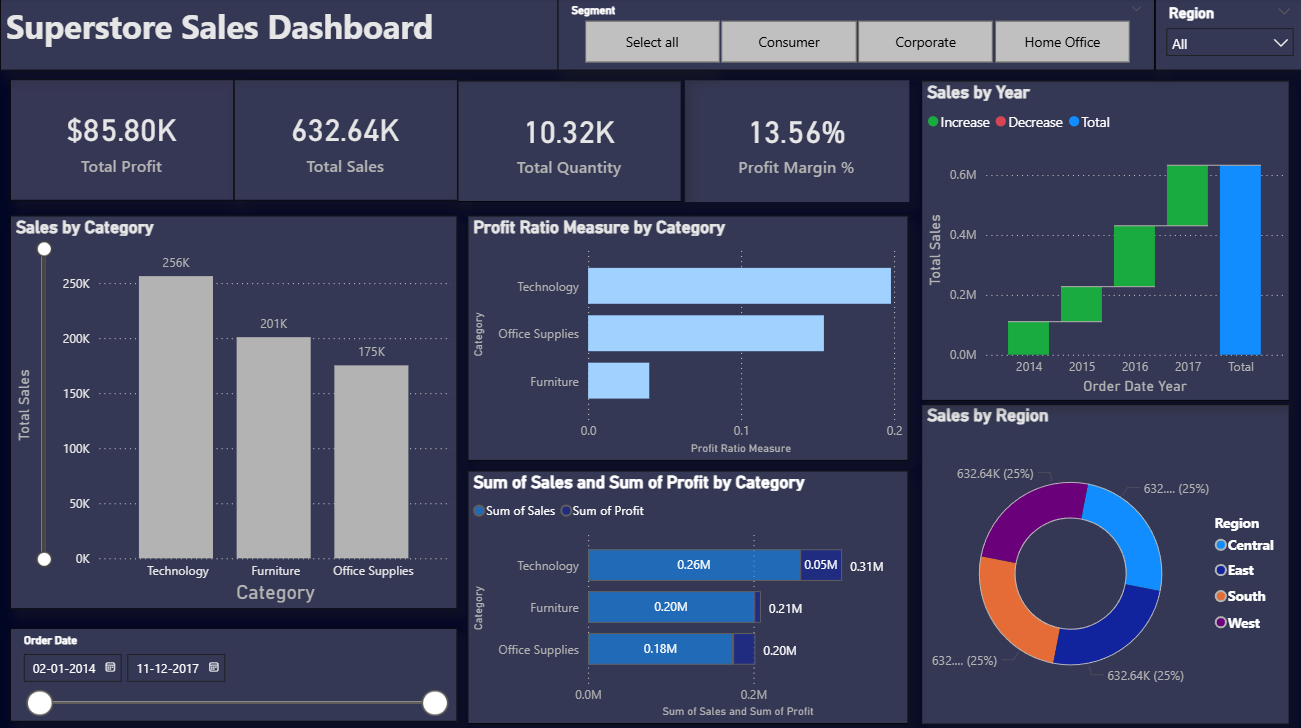

This screenshot's page, from the dashboard's own definition file:
{"tool":"powerbi","page":{"name":"Page 4","canvas":[1280,720],"ordinal":3},"visuals":[{"type":"card","fields":{"Values":["Store.Total Profit"]},"box":[9.8,79.8,219.6,119],"z":0},{"type":"card","fields":{"Values":["Store.Total Sales"]},"box":[229.4,79.8,219.6,119],"z":1000},{"type":"card","fields":{"Values":["Store.Profit Margin %"]},"box":[672.4,81,219.6,119],"z":2000},{"type":"card","fields":{"Values":["Customer Details.Total Quantity"]},"box":[449.1,81,219.6,119],"z":3000},{"type":"textbox","box":[0,0,694.5,71.2],"z":4000},{"type":"columnChart","title":"Sales by Category","fields":{"Category":["Product Details.Category"],"Y":["Store.Total Sales"]},"box":[9.8,213.5,439.3,386.5],"z":5000},{"type":"donutChart","title":" Sales by Region","fields":{"Category":["Location Details.Region"],"Y":["Store.Total Sales"]},"box":[904.3,398.8,362,314.1],"z":6000},{"type":"waterfallChart","title":" Sales by Year","fields":{"Category":["Store.Order Date.Variation.Date Hierarchy.Year","Store.Order Date.Variation.Date Hierarchy.Quarter","Store.Order Date.Variation.Date Hierarchy.Month","Store.Order Date.Variation.Date Hierarchy.Day"],"Y":["Store.Total Sales"]},"box":[904.3,81,362,314.1],"z":7000},{"type":"barChart","fields":{"Category":["Product Details.Category"],"Y":["Store.Profit Ratio Measure"]},"box":[458.9,213.5,433.1,240.5],"z":8000},{"type":"slicer","fields":{"Values":["Customer Details.Segment"]},"box":[547.2,0,586.5,71.2],"z":9000},{"type":"slicer","fields":{"Values":["Location Details.Region"]},"box":[1133.5,0,146.8,71.4],"z":10000},{"type":"slicer","fields":{"Values":["Store.Order Date"]},"box":[9.6,618.9,439.1,91.9],"z":11000},{"type":"barChart","fields":{"Category":["Product Details.Category"],"Y":["Sum(Store.Sales)","Sum(Store.Profit)"]},"box":[458.9,463.8,433.1,249.1],"z":12000}]}

Visuals, with their boxes in screenshot pixels (x1, y1, x2, y2), scaled from the page's 1280x720 canvas onto the 1301x728 screenshot:
card - Store.Total Profit: <region>10, 81, 233, 201</region>
card - Store.Total Sales: <region>233, 81, 456, 201</region>
card - Store.Profit Margin %: <region>683, 82, 907, 202</region>
card - Customer Details.Total Quantity: <region>456, 82, 680, 202</region>
textbox: <region>0, 0, 706, 72</region>
"Sales by Category" columnChart: <region>10, 216, 456, 607</region>
" Sales by Region" donutChart: <region>919, 403, 1287, 721</region>
" Sales by Year" waterfallChart: <region>919, 82, 1287, 399</region>
barChart - Product Details.Category x Store.Profit Ratio Measure: <region>466, 216, 907, 459</region>
slicer - Customer Details.Segment: <region>556, 0, 1152, 72</region>
slicer - Location Details.Region: <region>1152, 0, 1300, 72</region>
slicer - Store.Order Date: <region>10, 626, 456, 719</region>
barChart - Product Details.Category x Sum(Store.Sales): <region>466, 469, 907, 721</region>
